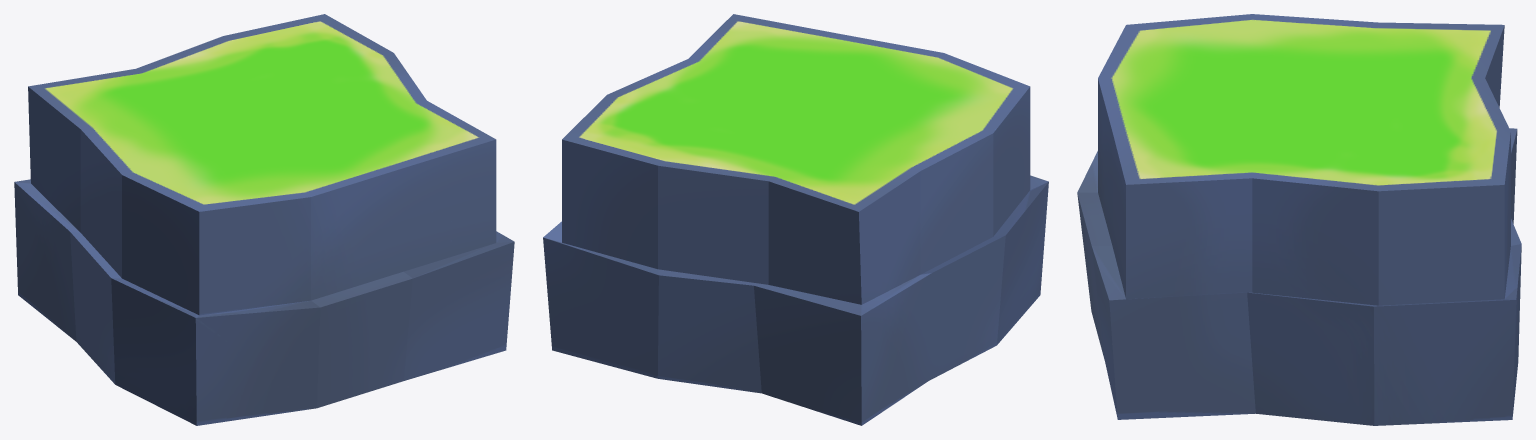
Rendered from ground.fbx.
3 renders of one model, left to right at view 1: azimuth 30°, elevation 25°; view 2: azimuth 150°, elevation 25°; view 3: azimuth 270°, elevation 25°, orthographic. The views are drawn at different scales.
Parts seen in each view (by area): view 1: ground; view 2: ground; view 3: ground.
Boxes of the visible parts, x1,y1,x2,y2 form: ground: (14, 14, 514, 425); ground: (543, 14, 1048, 425); ground: (1077, 14, 1521, 425).
Size of the model in its own units: 237 by 135 by 235.
1 material, 1 textured.
